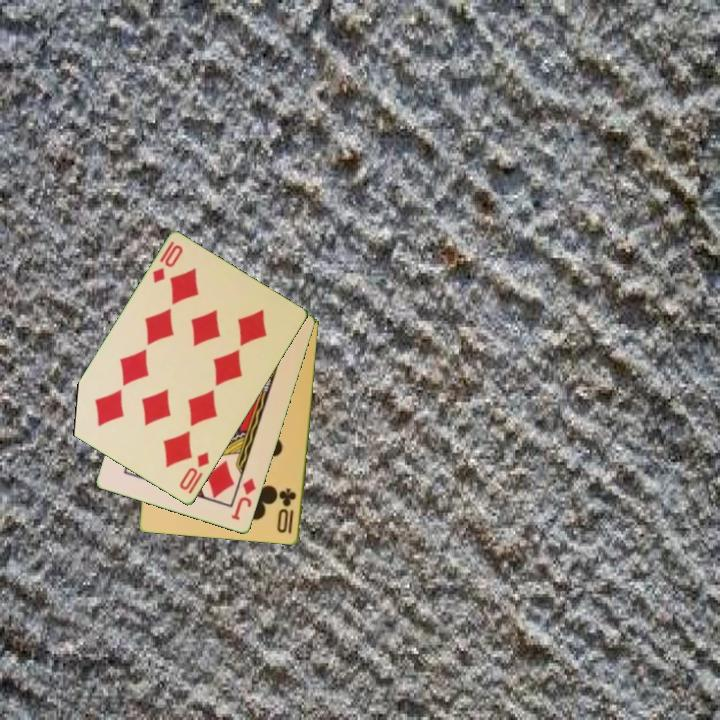10c: (274, 485, 299, 537)
10d: (149, 238, 186, 286), (176, 449, 213, 494)
Jd: (228, 475, 259, 524)
